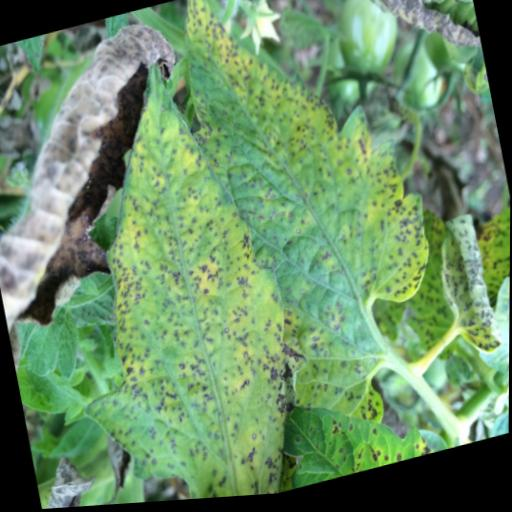Septoria: (20, 25, 331, 511), (162, 0, 463, 463), (274, 379, 436, 495), (427, 212, 506, 369)
